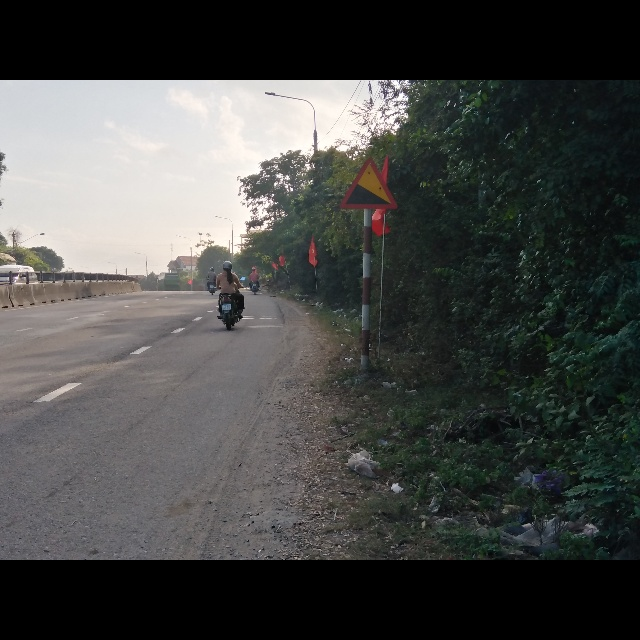Dốc lên nguy hiểm: (339, 158, 396, 211)
